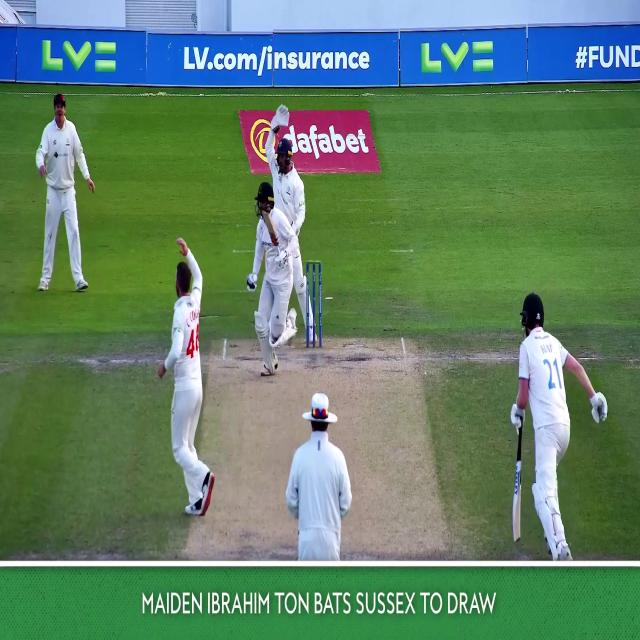stump: (306, 261, 322, 348), (306, 261, 322, 347)
